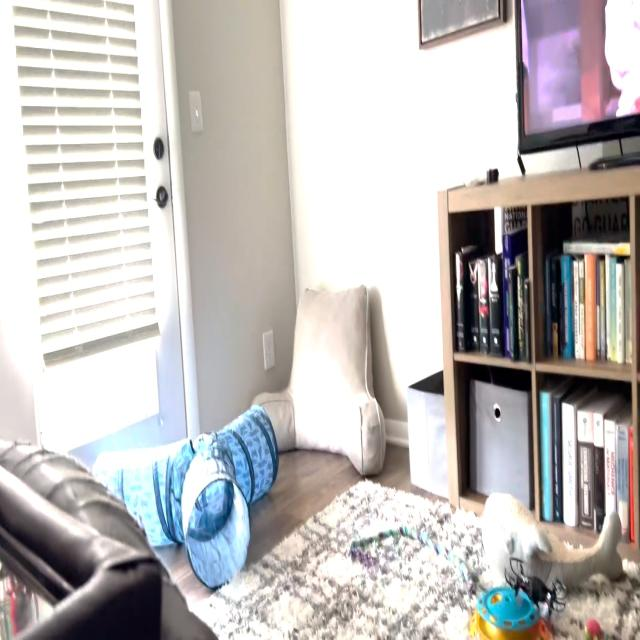drone: (498, 542, 576, 628)
